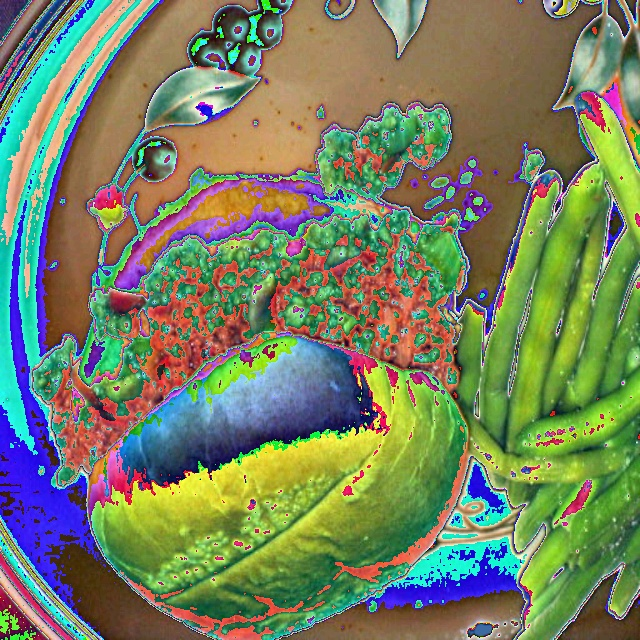background: (30, 90, 639, 639)
